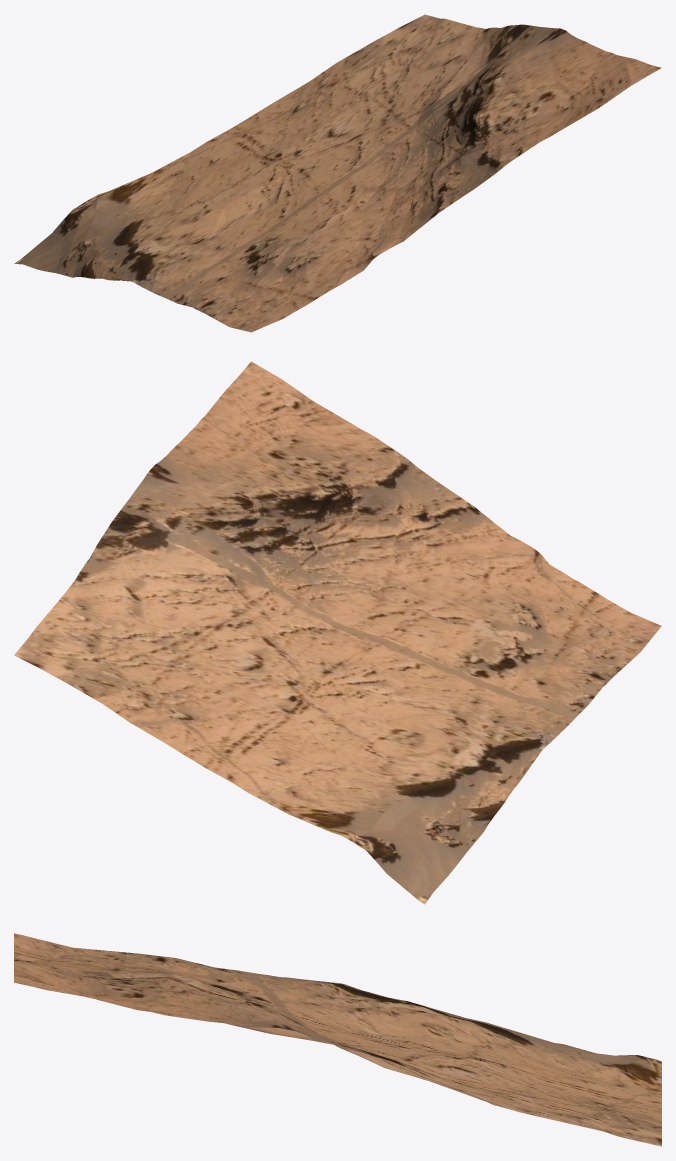
The picture shows the model from 3 angles, top to bottom: view 1: azimuth 30°, elevation 25°; view 2: azimuth 150°, elevation 25°; view 3: azimuth 270°, elevation 25°; orthographic projection. The views are drawn at different scales.
Bounding box in the file's own units: 1.04 × 0.6544 × 1.04.
Materials: 2 (2 with a texture image).
